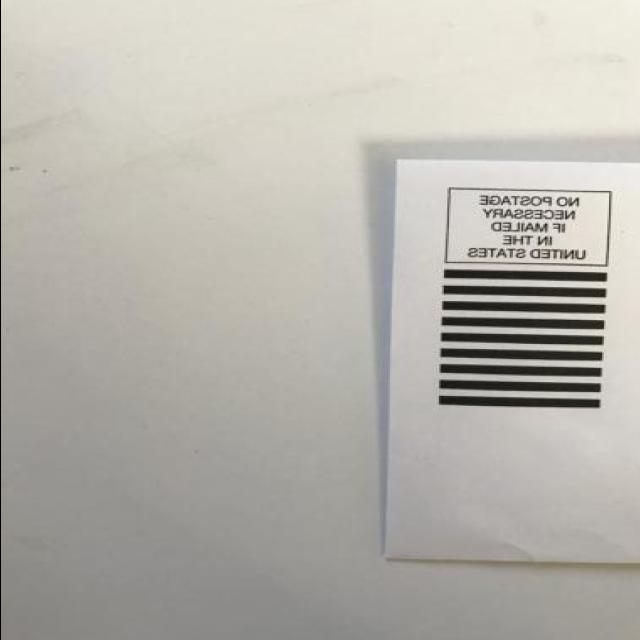kertas: (380, 155, 640, 564)
